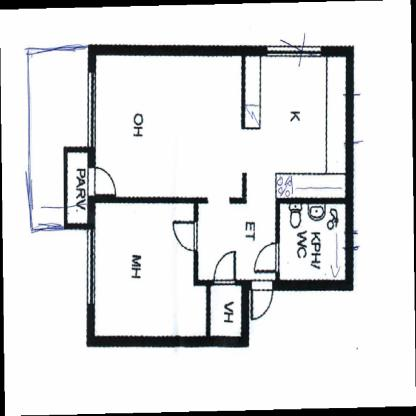door: (170, 219, 199, 252), (252, 242, 280, 274), (86, 169, 116, 198), (252, 280, 272, 321), (213, 249, 237, 280)
window: (87, 71, 95, 146), (87, 228, 95, 302), (268, 47, 322, 56)
zone: (95, 56, 345, 277), (97, 204, 209, 336), (29, 49, 88, 226), (280, 202, 347, 281), (210, 284, 240, 333)
